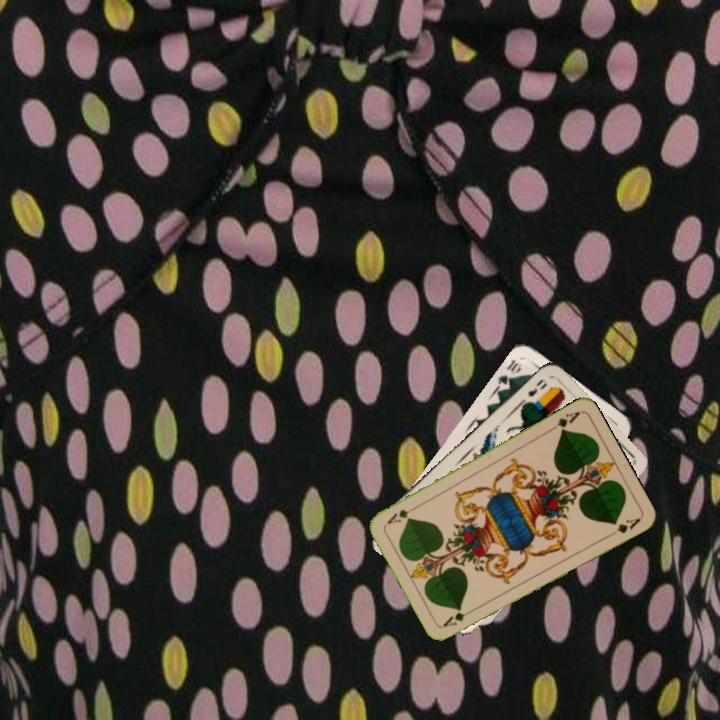EO: (518, 375, 550, 406)
G10: (493, 355, 525, 390)
GA: (545, 407, 582, 434), (439, 604, 477, 630)
